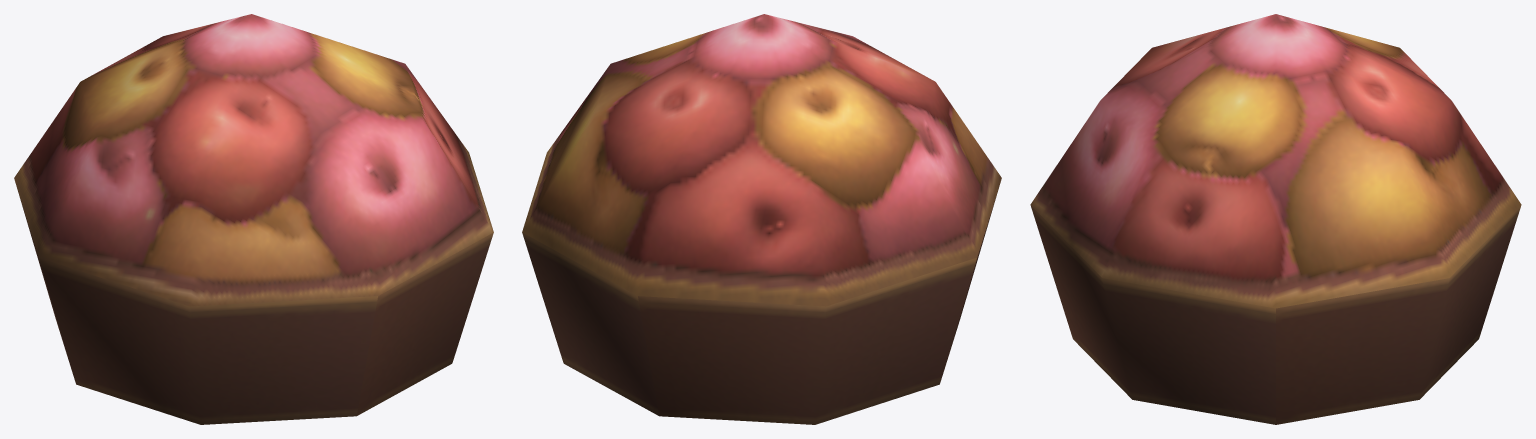
The model's file is field_food_002b.fbx.
3 views of the same model, side by side, from view 1: azimuth 30°, elevation 25°; view 2: azimuth 150°, elevation 25°; view 3: azimuth 270°, elevation 25° (orthographic).
Visible parts, largest first — view 1: field_food_002b; view 2: field_food_002b; view 3: field_food_002b.
Boxes of the visible parts, x1,y1,x2,y2 form: field_food_002b: (14,14,493,424); field_food_002b: (522,14,1001,424); field_food_002b: (1030,14,1521,424).
Size of the model in its own units: 37.33 by 27.17 by 37.33.
